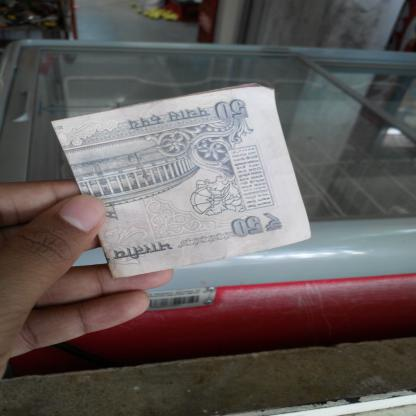Old50Back: (51, 82, 312, 280)
